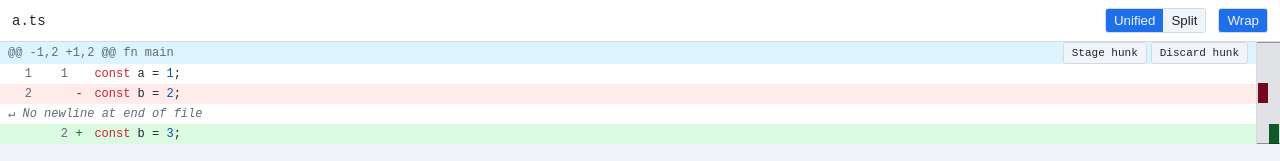
Test: DiffView › hunk and line staging › shift-click extends, Escape clears
The width and height of the screenshot is (1280, 161).
Click the 1st cell "2". click: coordinates (18, 94)
box: [0,84,36,104]
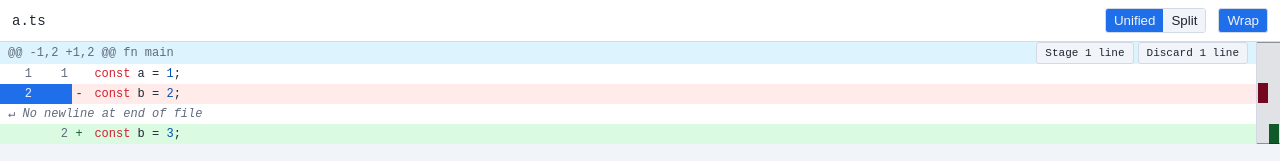
Click the 2nd cell "2". click: coordinates (54, 134)
box: [36,124,72,144]
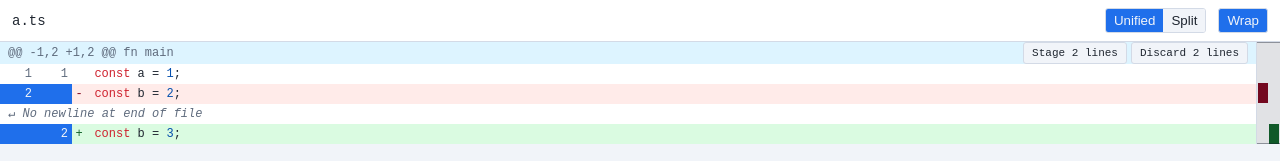
Check: the button "Stage 2 lines" is shown, box [1023,42,1127,64]
Press Escape
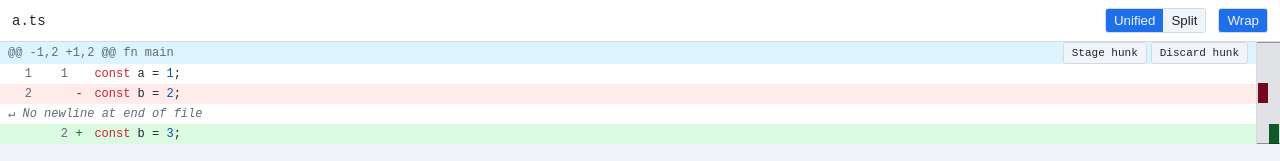
Check: the button "Stage hunk" is shown, box [1063,42,1147,64]
